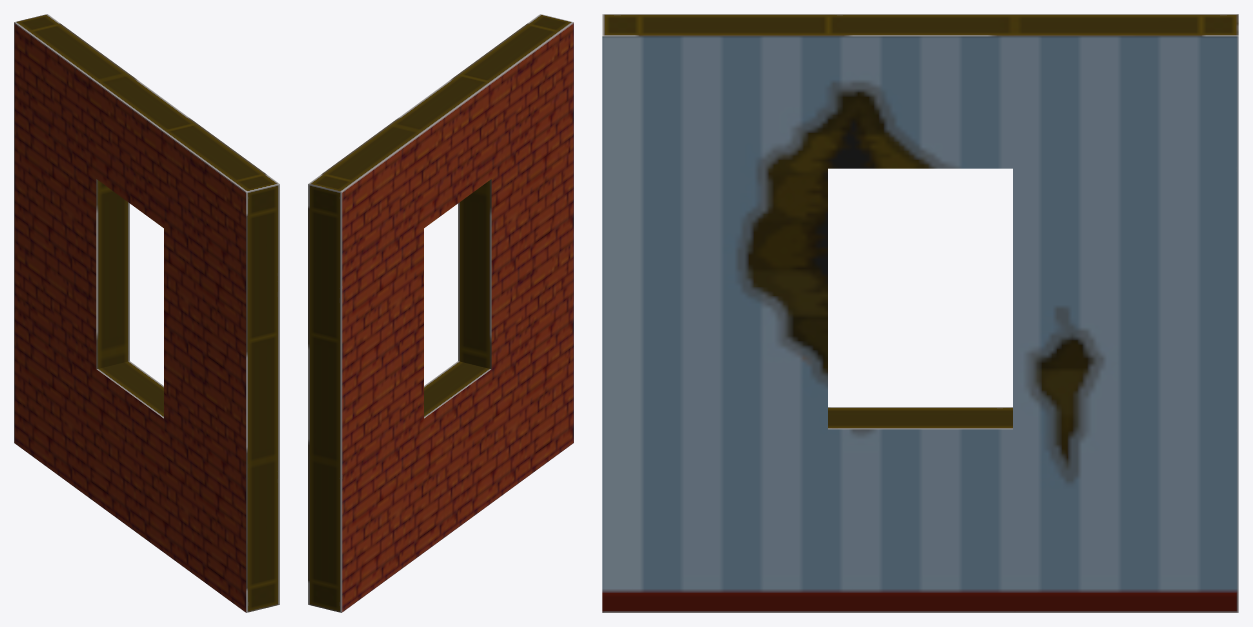
File: Wallb_Window_04.fbx
The picture shows the model from 3 angles, left to right: view 1: azimuth 30°, elevation 25°; view 2: azimuth 150°, elevation 25°; view 3: azimuth 270°, elevation 25°; orthographic projection. The views are drawn at different scales.
Visible parts, largest first — view 1: Wallb_Window_04; view 2: Wallb_Window_04; view 3: Wallb_Window_04.
Boxes of the visible parts, box(x1,y1,x2,y2) form: Wallb_Window_04: box(14, 14, 279, 612); Wallb_Window_04: box(308, 14, 573, 612); Wallb_Window_04: box(602, 14, 1238, 612).
Size of the model in its own units: 50 by 600 by 600.
